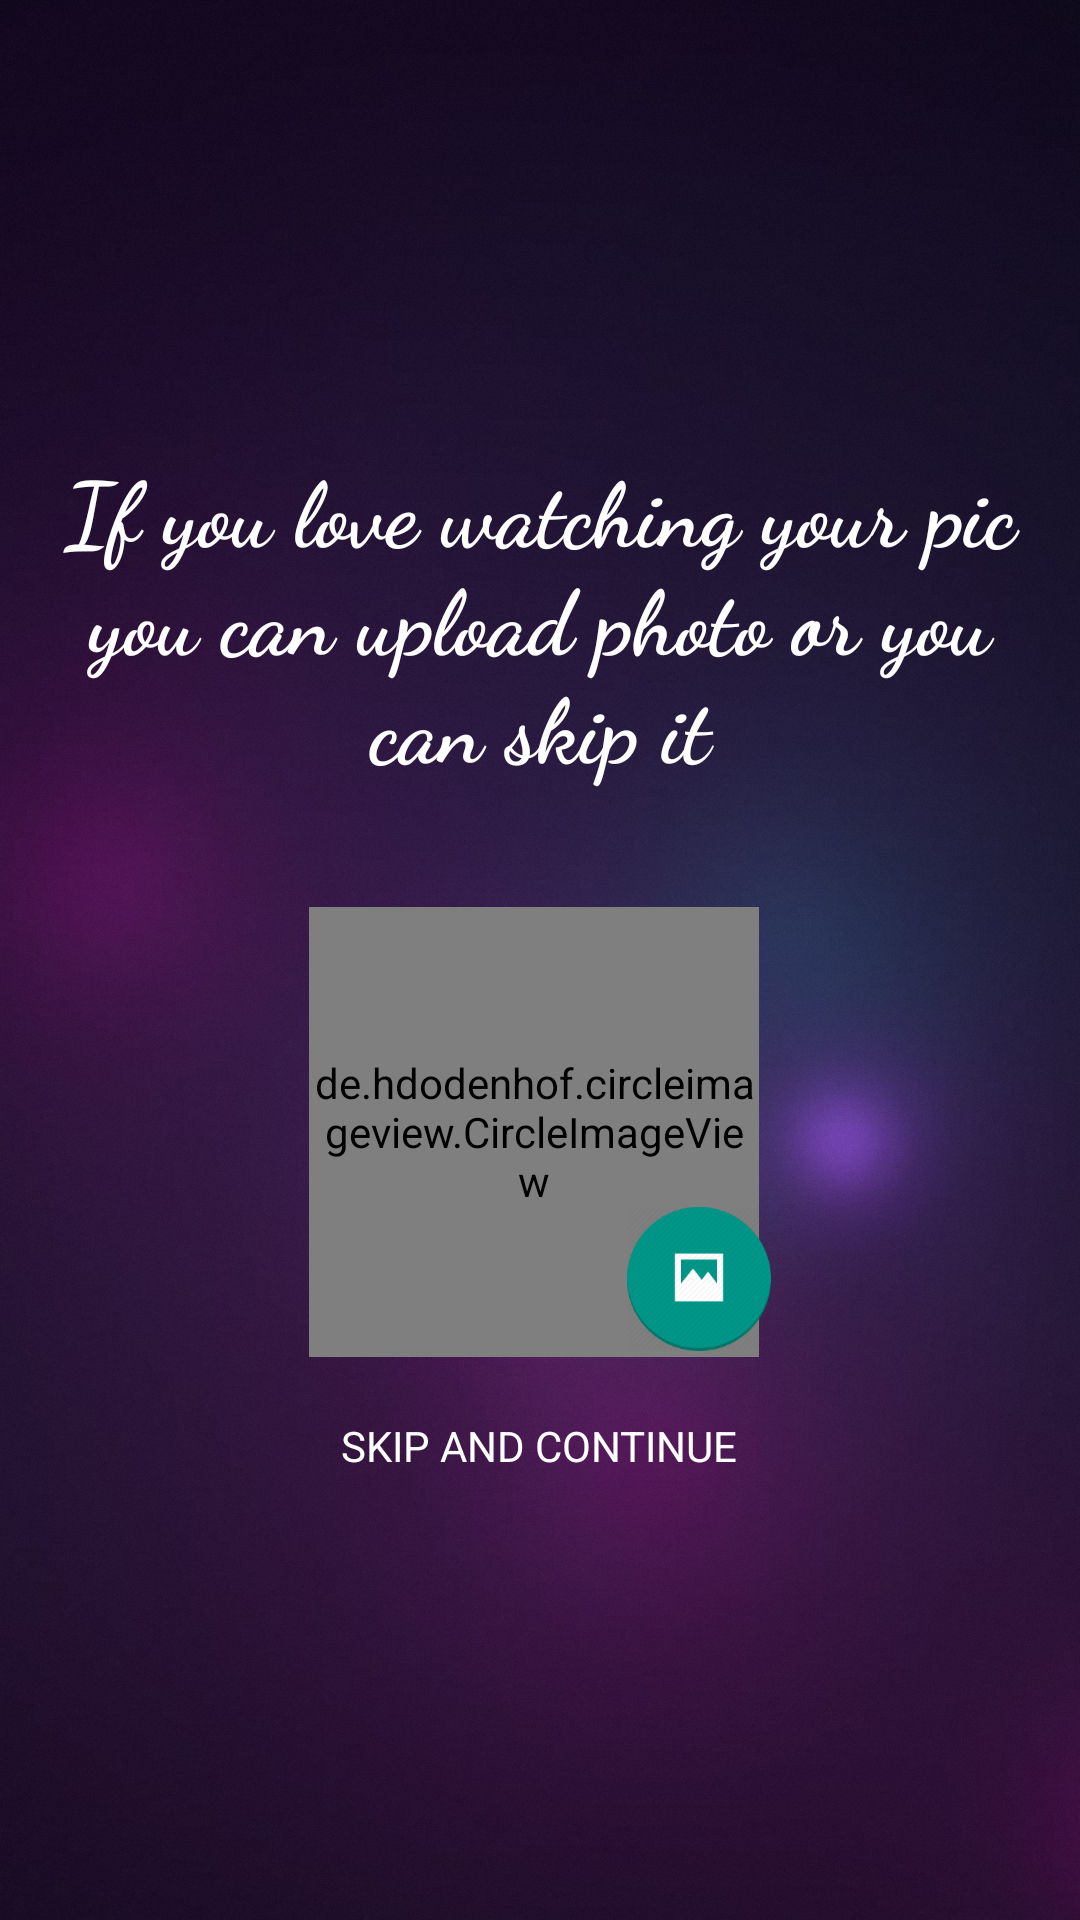

Named icons in this screenshot (1080x1920) and their centers, point (x, y):
gallery: point (699, 1279)
